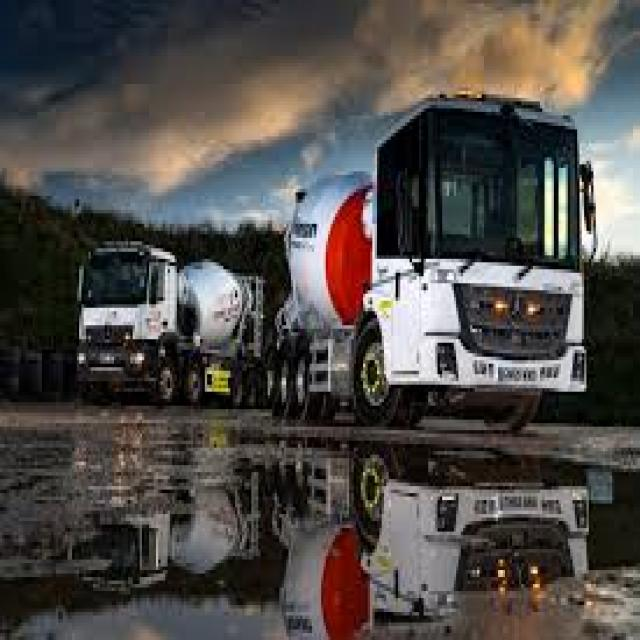Mixer Truck: (272, 90, 595, 432), (73, 236, 265, 405)
